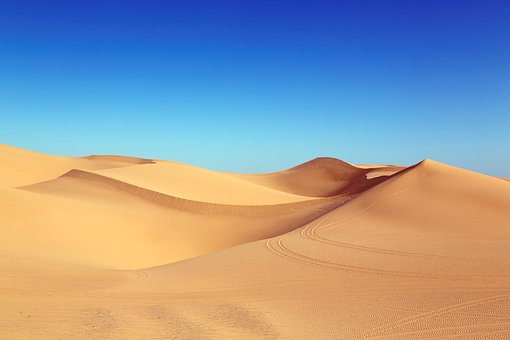desert: (1, 146, 509, 337)
sky: (3, 1, 509, 161)
